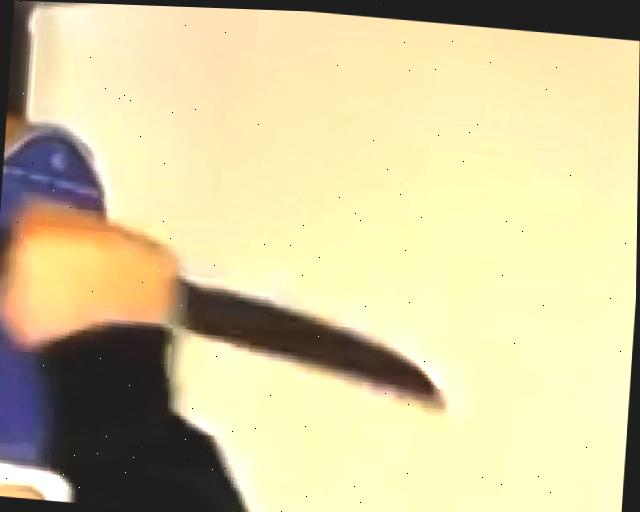long knife: (0, 210, 469, 441)
